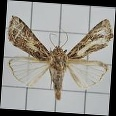Spodoptera litura: (5, 15, 112, 101)
